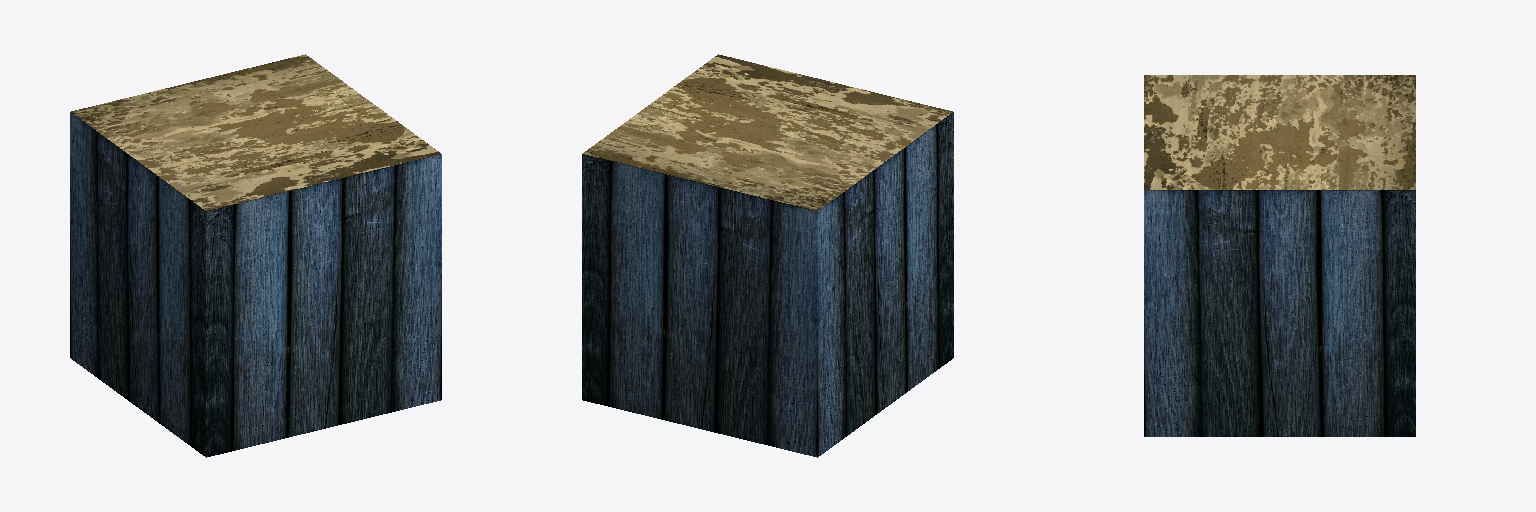
The picture shows the model from 3 angles: view 1: azimuth 30°, elevation 25°; view 2: azimuth 150°, elevation 25°; view 3: azimuth 270°, elevation 25°; orthographic projection.
Parts seen in each view (by area): view 1: Cube; view 2: Cube; view 3: Cube.
Boxes of the visible parts, x1=… form: Cube: x1=70, y1=54, x2=441, y2=457; Cube: x1=582, y1=54, x2=953, y2=457; Cube: x1=1144, y1=75, x2=1415, y2=436.
Size of the model in its own units: 1 by 1 by 1.
3 materials, 2 textured.